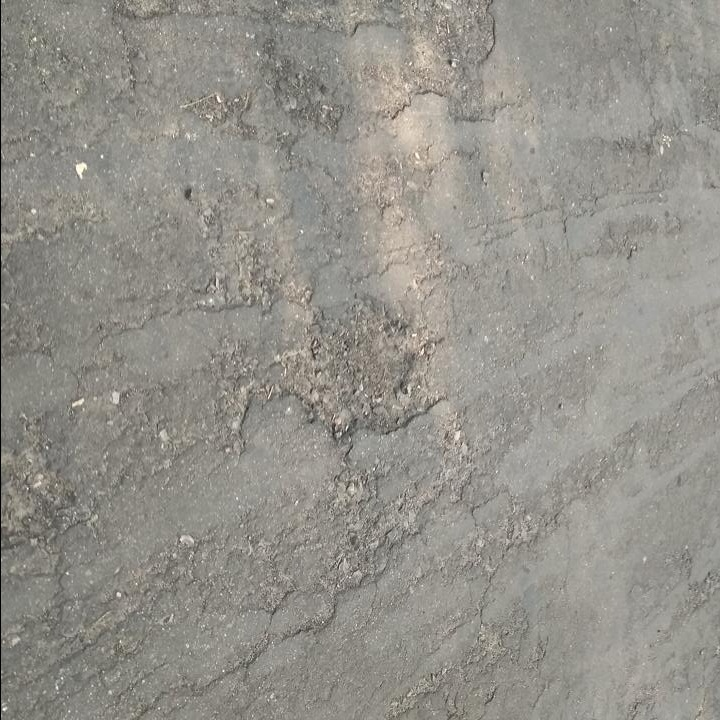pothole: (279, 283, 435, 442), (1, 414, 75, 549), (410, 0, 506, 97)
